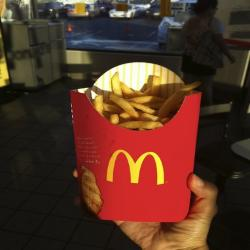fries: (68, 68, 201, 142)
